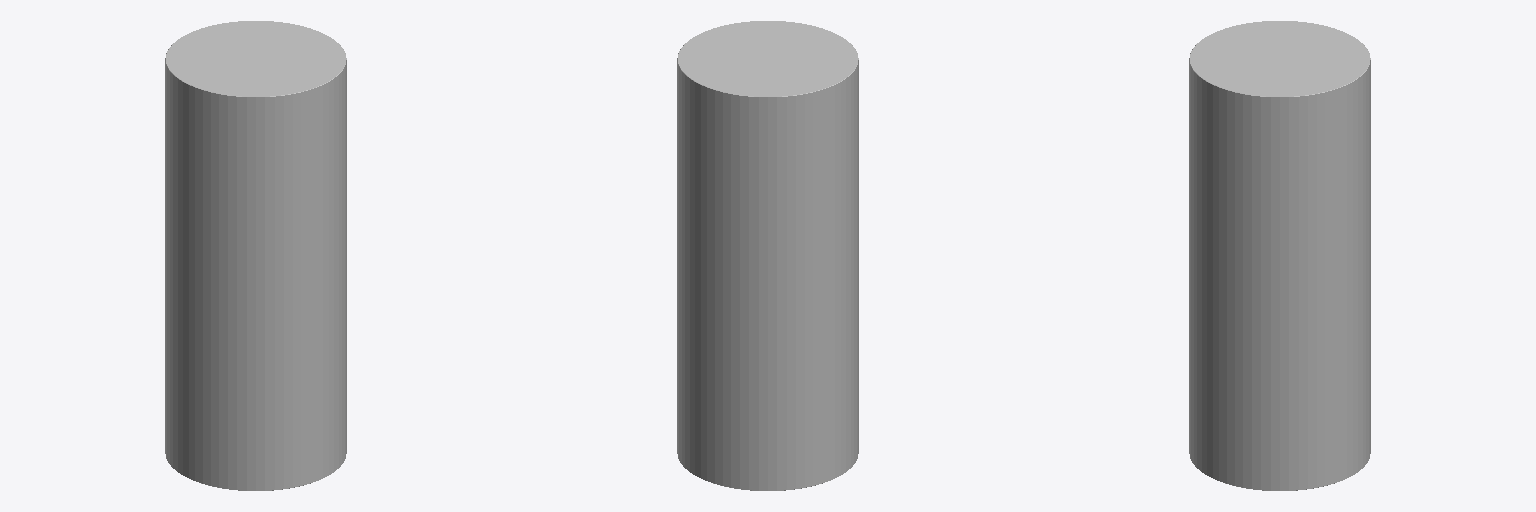
File: dampfabzug.obj
3 renders of one model, left to right at view 1: azimuth 30°, elevation 25°; view 2: azimuth 150°, elevation 25°; view 3: azimuth 270°, elevation 25°, orthographic.
Parts seen in each view (by area): view 1: Cylinder.002_Cylinder.005; view 2: Cylinder.002_Cylinder.005; view 3: Cylinder.002_Cylinder.005.
Part boxes in pixels (left/top/right/bottom): Cylinder.002_Cylinder.005: left=165, top=21, right=346, bottom=490; Cylinder.002_Cylinder.005: left=677, top=21, right=858, bottom=490; Cylinder.002_Cylinder.005: left=1189, top=21, right=1370, bottom=490.
Size of the model in its own units: 0.5 by 1.2 by 0.5.